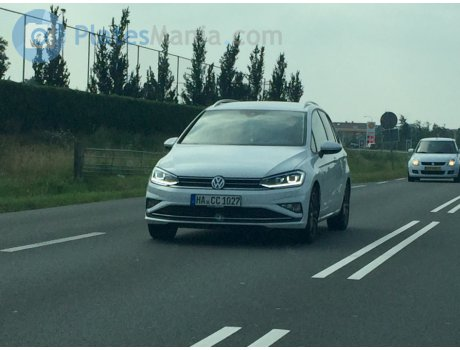License Plates: (194, 193, 240, 204)
